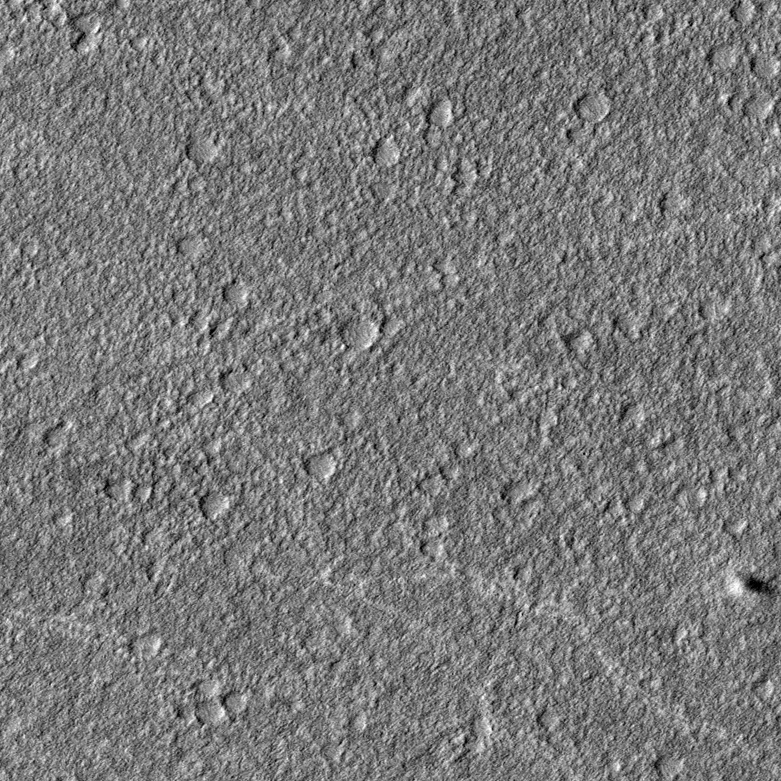dust_devil: (724, 570, 777, 600)
